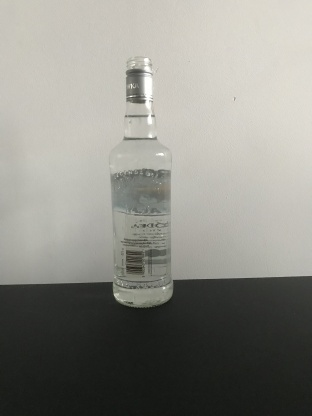nakretka: (124, 54, 154, 104)
